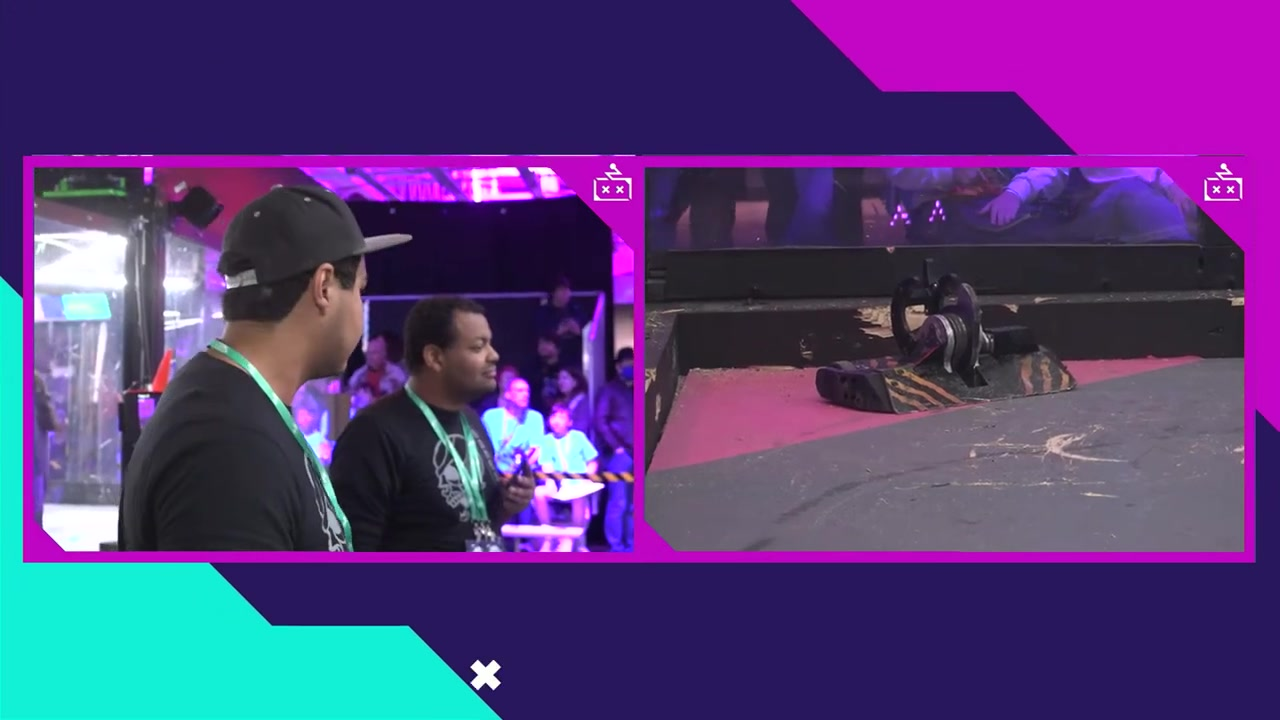combatbot: (815, 316, 1076, 417)
